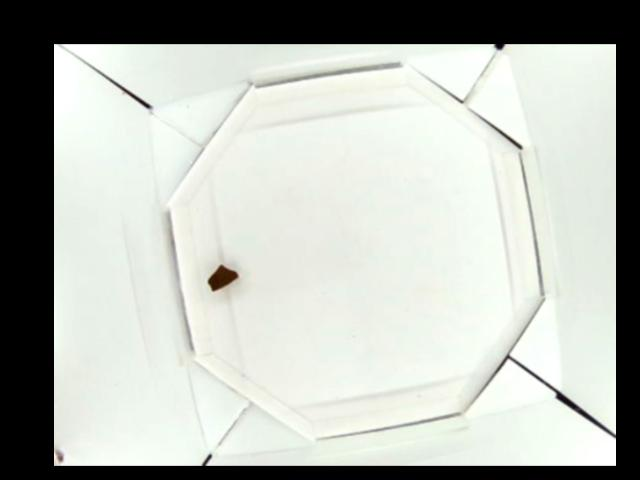China: (206, 263, 241, 293)
